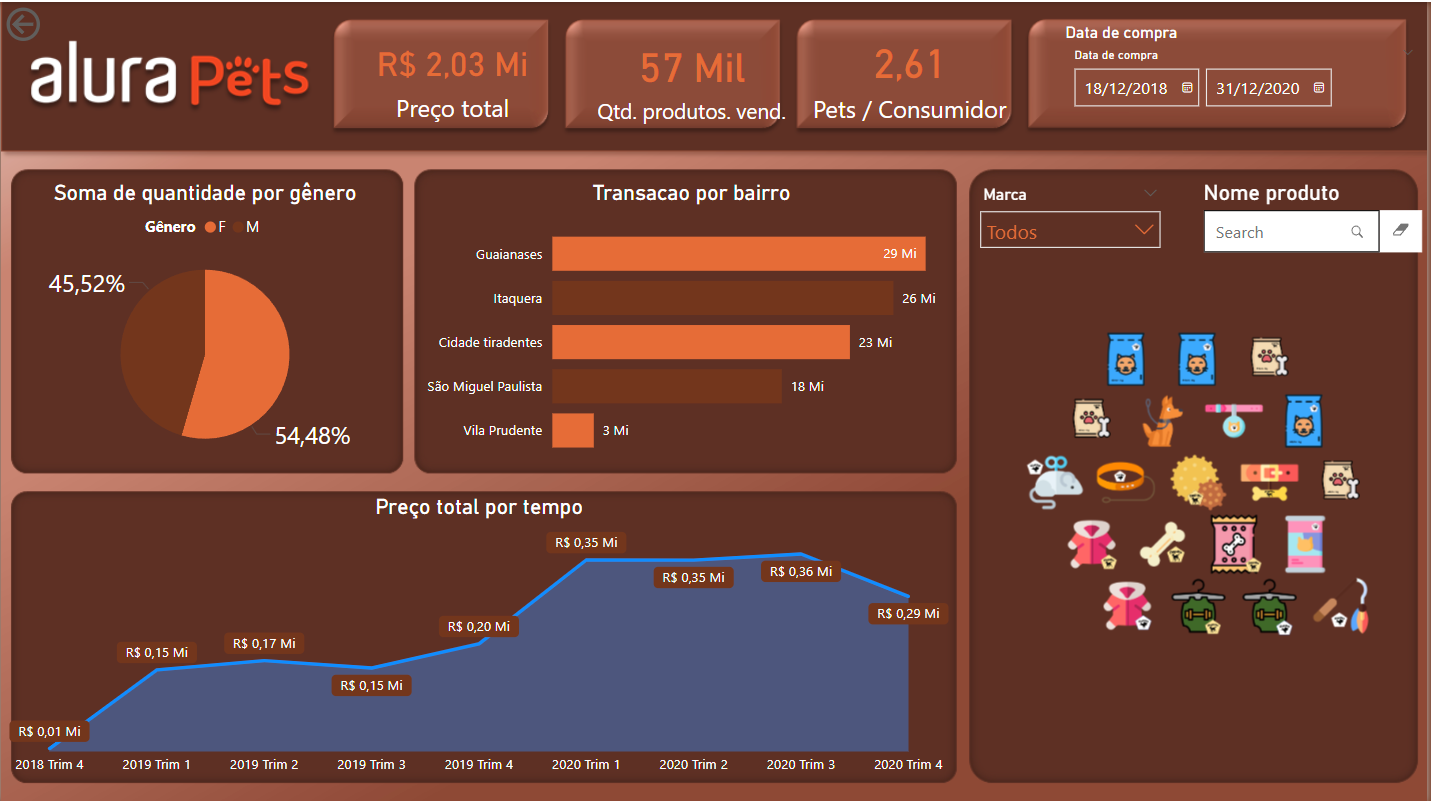

This screenshot's page, from the dashboard's own definition file:
{"tool":"powerbi","page":{"name":"Página 1","canvas":[1280,720],"ordinal":0},"visuals":[{"type":"actionButton","box":[0,0,100,40],"z":1},{"type":"card","fields":{"Values":["Sum(Vendas.Preço Total)"]},"box":[297,1.5,216.4,132.8],"z":2},{"type":"card","fields":{"Values":["Avg(Clientes.Pets)"]},"box":[711.9,0,207.5,132.8],"z":3},{"type":"card","fields":{"Values":["Sum(Vendas.Quantidade)"]},"box":[507.5,19.4,225.4,97],"z":4},{"type":"pieChart","title":"Soma de quantidade por gênero","fields":{"Category":["Clientes.Gênero"],"Y":["Sum(Vendas.Quantidade)"]},"box":[38.8,159.7,346.3,262.7],"z":5},{"type":"clusteredBarChart","title":"Transacao por bairro","fields":{"Category":["Clientes.Bairro"],"Y":["Sum(Vendas.Transacao)"]},"box":[385.1,159.7,501.5,262.7],"z":6},{"type":"areaChart","title":"Preço total por tempo","fields":{"Category":["Vendas.Data de compra.Variation.Hierarquia de datas.Ano","Vendas.Data de compra.Variation.Hierarquia de datas.Trimestre","Vendas.Data de compra.Variation.Hierarquia de datas.Mês","Vendas.Data de compra.Variation.Hierarquia de datas.Dia"],"Y":["Sum(Vendas.Preço Total)"]},"box":[0,441.8,858.2,261.2],"z":7},{"type":"ImageGrid_FC5183B9_926C_45E0_B5F7_0CE9EAF1DA9B","fields":{"ImageURLHQ":["Produtos.Url img"]},"box":[868.7,159.7,411.9,543.3],"z":8},{"type":"textFilter25A4896A83E0487089E2B90C9AE57C8A","fields":{"field":["Produtos.Nome produto"]},"box":[1074.6,159.7,206,113.4],"z":9},{"type":"slicer","fields":{"Values":["Produtos.Marca"]},"box":[868.7,159.7,182.1,88.1],"z":10},{"type":"slicer","title":"Data de compra","fields":{"Values":["Vendas.Data de compra"]},"box":[950.7,19.4,329.9,97],"z":11}]}

Visuals, with their boxes in screenshot pixels (x1, y1, x2, y2), scaled from the page's 1280x720 canvas onto the 1431x801 screenshot:
actionButton: pyautogui.locateOnScreen(0, 0, 112, 44)
card - Sum(Vendas.Preço Total): pyautogui.locateOnScreen(332, 2, 574, 149)
card - Avg(Clientes.Pets): pyautogui.locateOnScreen(796, 0, 1028, 148)
card - Sum(Vendas.Quantidade): pyautogui.locateOnScreen(567, 22, 819, 129)
"Soma de quantidade por gênero" pieChart: pyautogui.locateOnScreen(43, 178, 431, 470)
"Transacao por bairro" clusteredBarChart: pyautogui.locateOnScreen(431, 178, 991, 470)
"Preço total por tempo" areaChart: pyautogui.locateOnScreen(0, 492, 959, 782)
ImageGrid_FC5183B9_926C_45E0_B5F7_0CE9EAF1DA9B - Produtos.Url img: pyautogui.locateOnScreen(971, 178, 1430, 782)
textFilter25A4896A83E0487089E2B90C9AE57C8A - Produtos.Nome produto: pyautogui.locateOnScreen(1201, 178, 1430, 304)
slicer - Produtos.Marca: pyautogui.locateOnScreen(971, 178, 1175, 276)
"Data de compra" slicer: pyautogui.locateOnScreen(1063, 22, 1430, 129)
